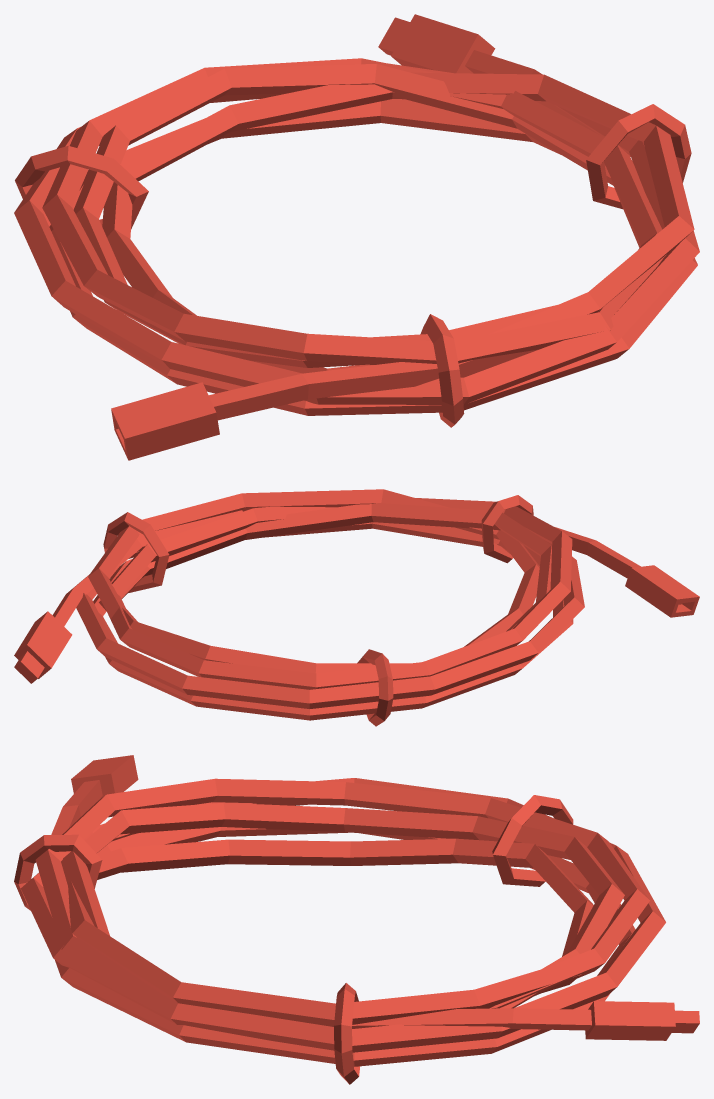
File: SM_Cable_Port_Stranded_Big_A.fbx
The picture shows the model from 3 angles, top to bottom: view 1: azimuth 30°, elevation 25°; view 2: azimuth 150°, elevation 25°; view 3: azimuth 270°, elevation 25°; orthographic projection. The views are drawn at different scales.
Visible parts, largest first — view 1: SM_Cable_Port_Stranded_Big_A; view 2: SM_Cable_Port_Stranded_Big_A; view 3: SM_Cable_Port_Stranded_Big_A.
Boxes of the visible parts, box(x1,y1,x2,y2) form: SM_Cable_Port_Stranded_Big_A: box(14, 14, 699, 460); SM_Cable_Port_Stranded_Big_A: box(14, 489, 699, 726); SM_Cable_Port_Stranded_Big_A: box(14, 755, 699, 1084).
Bounding box in the file's own units: 37.27 × 38.42 × 5.85.
